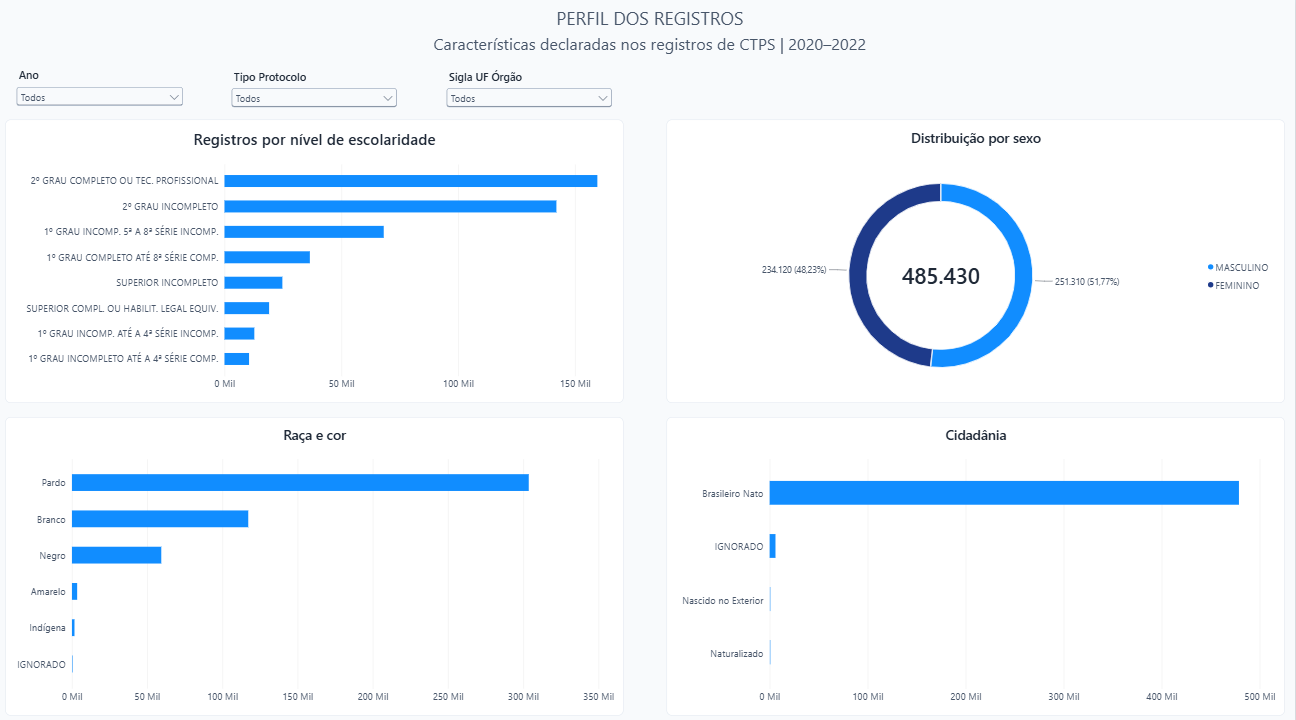

Layout of this report page (visuals, bound fields, positions):
{"tool":"powerbi","page":{"name":"Perfil dos Registros","canvas":[1920,1080],"ordinal":1},"visuals":[{"type":"textbox","box":[10,0,1910,66],"z":0},{"type":"textbox","box":[10,40,1910,54],"z":1},{"type":"slicer","fields":{"Values":["Calendario.Ano"]},"box":[10,92,280,75],"z":2},{"type":"slicer","fields":{"Values":["ctps_emissoes.Tipo Protocolo"]},"box":[328,92,280,75],"z":3},{"type":"slicer","fields":{"Values":["ctps_emissoes.Sigla UF Órgão"]},"box":[646,94,280,75],"z":4},{"type":"clusteredBarChart","title":"Registros por nível de escolaridade","fields":{"Category":["ctps_emissoes.Nível Escolaridade"],"Y":["ctps_emissoes.Registros publicados"]},"box":[10,182,916,420],"z":5},{"type":"donutChart","title":"Distribuição por sexo","fields":{"Category":["ctps_emissoes.Sexo"],"Y":["ctps_emissoes.Registros publicados"]},"box":[988,182,916,420],"z":6},{"type":"clusteredBarChart","title":"Raça e cor","fields":{"Category":["ctps_emissoes.Raça e Cor"],"Y":["ctps_emissoes.Registros publicados"]},"box":[10,622,916,442],"z":7},{"type":"clusteredBarChart","title":"Cidadânia","fields":{"Category":["ctps_emissoes.Tipo Cidadania"],"Y":["ctps_emissoes.Registros publicados"]},"box":[988,622,916,442],"z":8}]}

Visuals, with their boxes in screenshot pixels (x1, y1, x2, y2), scaled from the page's 1920x1080 canvas onto the 1296x720 screenshot:
textbox: [7,0,1295,44]
textbox: [7,27,1295,63]
slicer - Calendario.Ano: [7,61,196,111]
slicer - ctps_emissoes.Tipo Protocolo: [221,61,410,111]
slicer - ctps_emissoes.Sigla UF Órgão: [436,63,625,113]
"Registros por nível de escolaridade" clusteredBarChart: [7,121,625,401]
"Distribuição por sexo" donutChart: [667,121,1285,401]
"Raça e cor" clusteredBarChart: [7,415,625,709]
"Cidadânia" clusteredBarChart: [667,415,1285,709]
